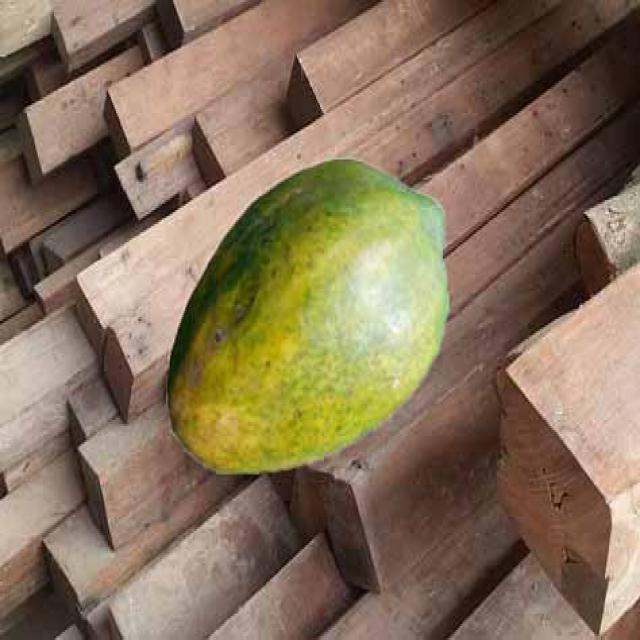Pepaya rippen: (158, 154, 455, 488)
